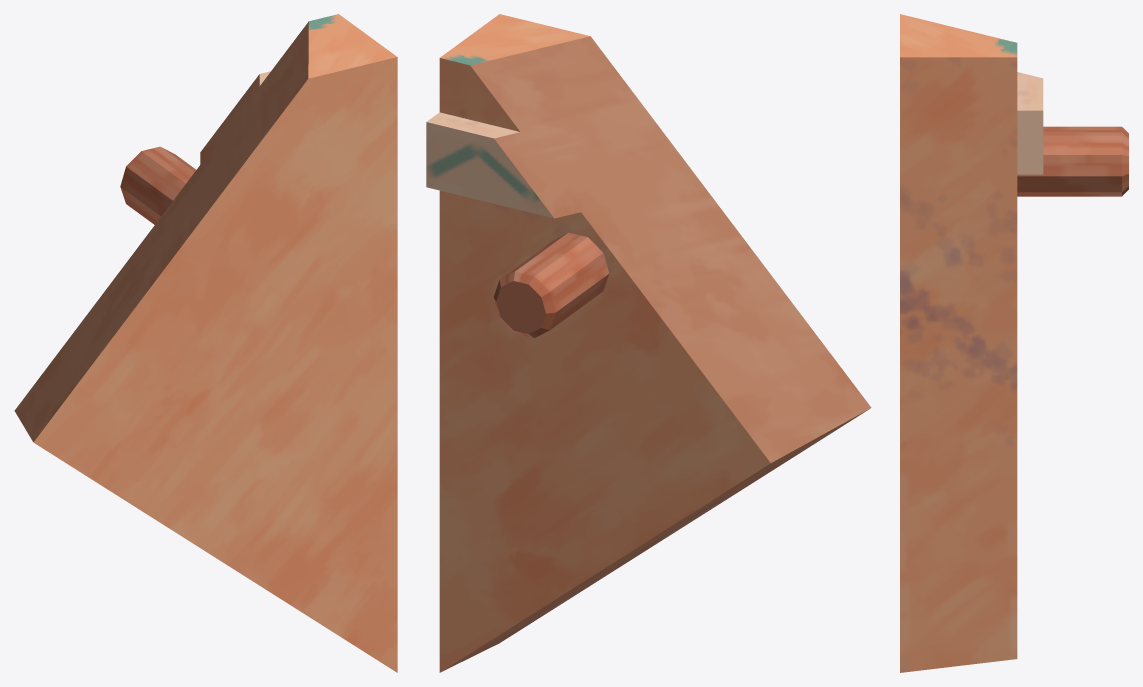
File: wall2_shutter_s00.fbx
The picture shows the model from 3 angles, left to right: view 1: azimuth 30°, elevation 25°; view 2: azimuth 150°, elevation 25°; view 3: azimuth 270°, elevation 25°; orthographic projection. The views are drawn at different scales.
Parts seen in each view (by area): view 1: wall2_shutter_s00; view 2: wall2_shutter_s00; view 3: wall2_shutter_s00.
Boxes of the visible parts, x1=… form: wall2_shutter_s00: x1=14, y1=14, x2=397, y2=672; wall2_shutter_s00: x1=426, y1=14, x2=871, y2=672; wall2_shutter_s00: x1=900, y1=14, x2=1128, y2=672.
Bounding box in the file's own units: 3.58 × 5.78 × 1.95.
